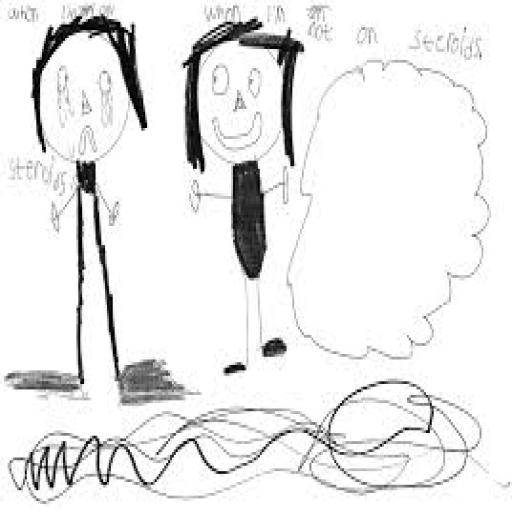person: (33, 17, 147, 383), (184, 20, 303, 356)
